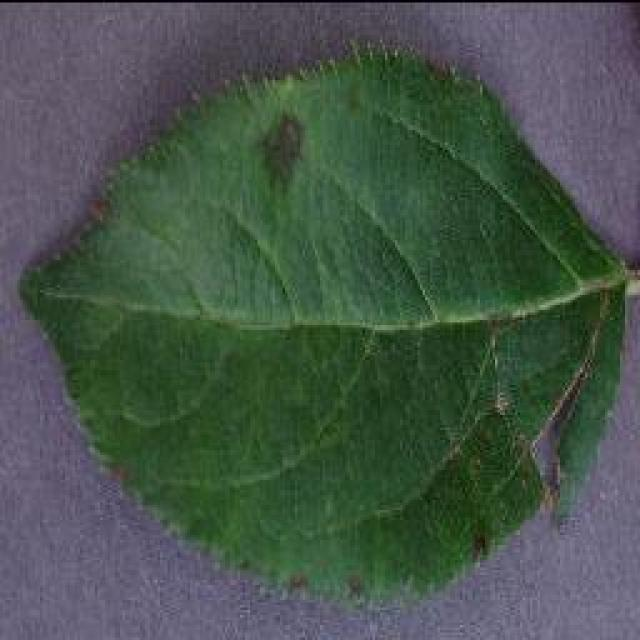apple scab disease: (15, 38, 637, 608)
